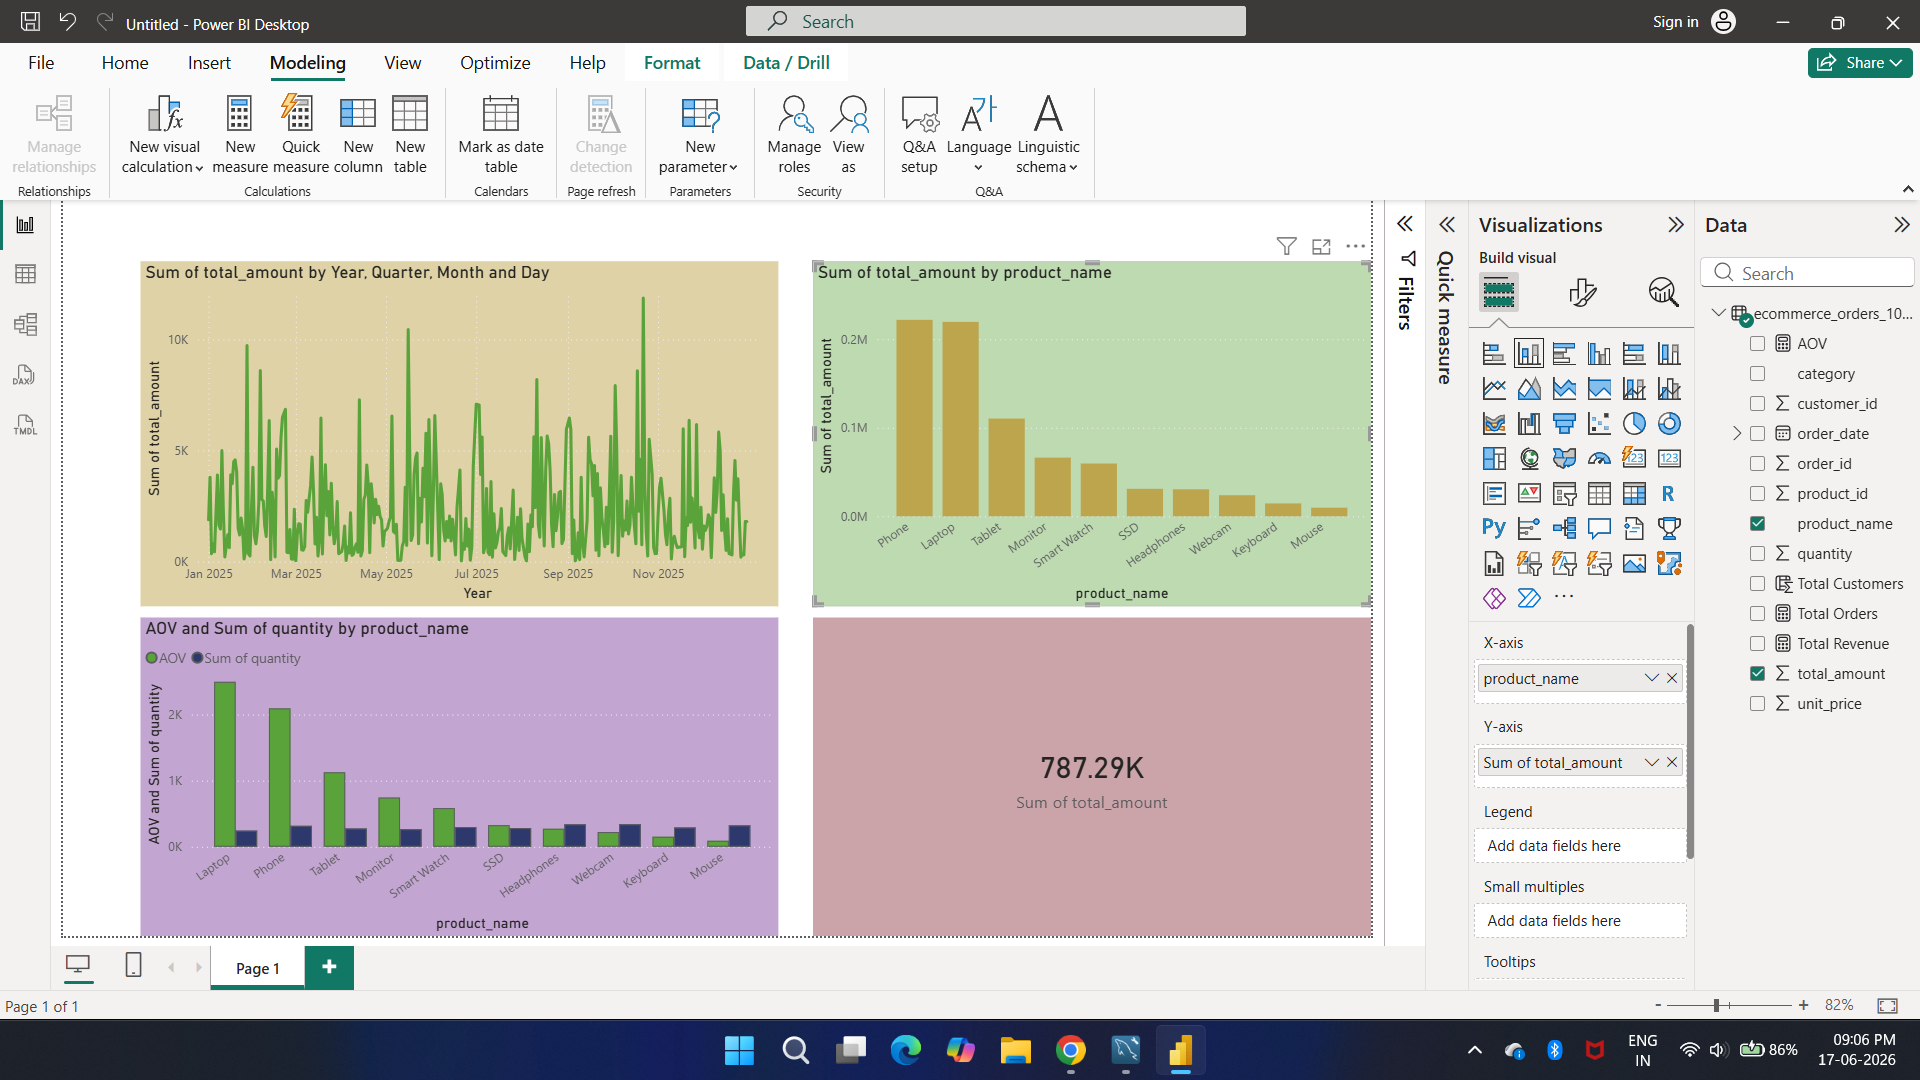

The page's visual inventory and layout, read from the dashboard file:
{"tool":"powerbi","page":{"name":"Page 1","canvas":[1280,720],"ordinal":0},"visuals":[{"type":"lineChart","fields":{"Y":["Sum(ecommerce_orders_1000.total_amount)"],"Category":["ecommerce_orders_1000.order_date.Variation.Date Hierarchy.Year","ecommerce_orders_1000.order_date.Variation.Date Hierarchy.Quarter","ecommerce_orders_1000.order_date.Variation.Date Hierarchy.Month","ecommerce_orders_1000.order_date.Variation.Date Hierarchy.Day"]},"box":[75.5,59.9,624.3,337.8],"z":2},{"type":"columnChart","fields":{"Y":["Sum(ecommerce_orders_1000.total_amount)"],"Category":["ecommerce_orders_1000.product_name"]},"box":[733.7,59.9,546.6,337.5],"z":3},{"type":"clusteredColumnChart","fields":{"Y":["ecommerce_orders_1000.AOV","Sum(ecommerce_orders_1000.quantity)"],"Category":["ecommerce_orders_1000.product_name"]},"box":[76,408,624,312],"z":4},{"type":"card","fields":{"Values":["Sum(ecommerce_orders_1000.total_amount)"]},"box":[734,408,546,312],"z":5}]}

Visuals, with their boxes on the page's 1280x720 design canvas (x1, y1, x2, y2). These are canvas units, not pixel positions in the 1920x1080 screenshot, which may show the page scaled, cropped or inside an application window:
lineChart - Sum(ecommerce_orders_1000.total_amount) x ecommerce_orders_1000.order_date.Variation.Date Hierarchy.Year: l=76, t=60, r=700, b=398
columnChart - Sum(ecommerce_orders_1000.total_amount) x ecommerce_orders_1000.product_name: l=734, t=60, r=1280, b=397
clusteredColumnChart - ecommerce_orders_1000.AOV x Sum(ecommerce_orders_1000.quantity): l=76, t=408, r=700, b=720
card - Sum(ecommerce_orders_1000.total_amount): l=734, t=408, r=1280, b=720
